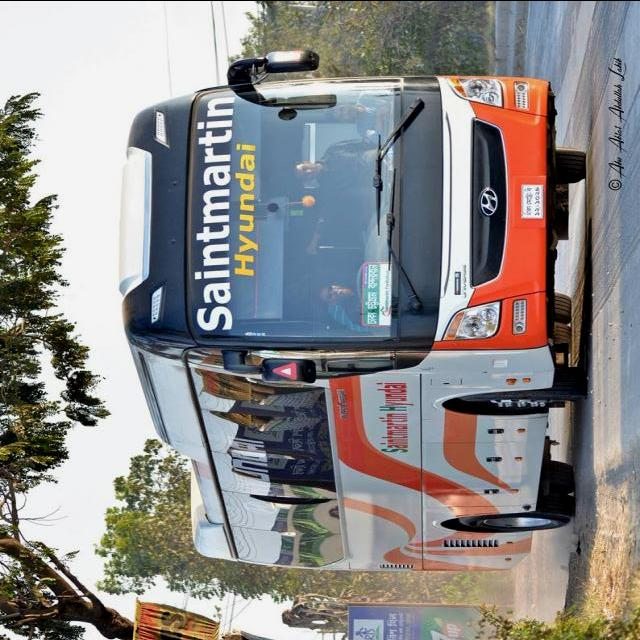bus: (116, 46, 590, 573)
